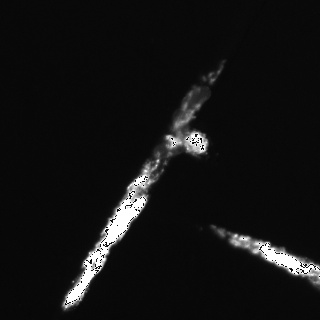embryo: (126, 171, 159, 193), (182, 87, 211, 110), (153, 142, 185, 158), (173, 107, 196, 124)
